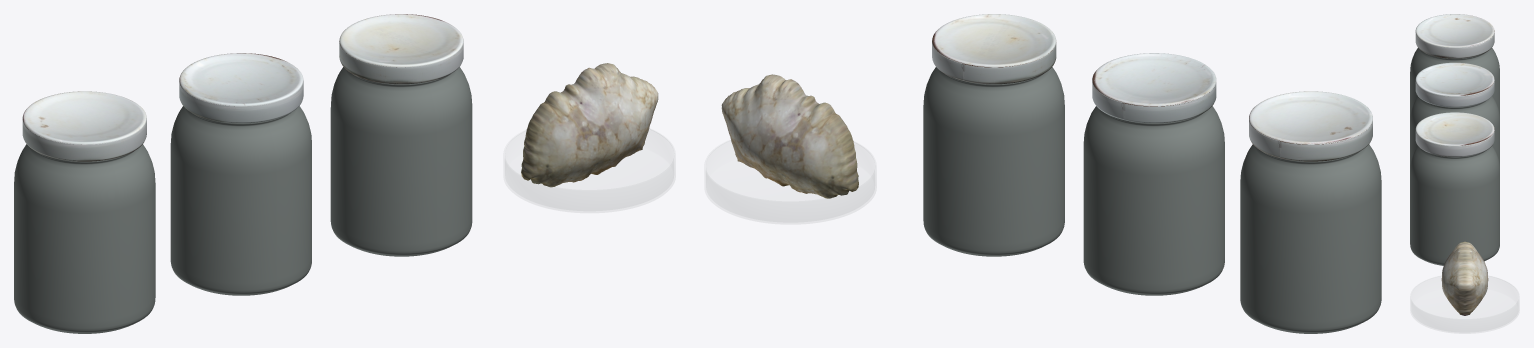
Rendered from claros_e_quartzo_22_web.glb.
The picture shows the model from 3 angles, left to right: view 1: azimuth 30°, elevation 25°; view 2: azimuth 150°, elevation 25°; view 3: azimuth 270°, elevation 25°; orthographic projection. The views are drawn at different scales.
Parts seen in each view (by area): view 1: Vidro_Pote_Solo_Claro_3, Vidro_Pote_Solo_Claro_1, Vidro_Pote_Solo_Claro_2, Cristal_de_Quartzo, Tampa_Pote_Solo_Claro_1, Tampa_Pote_Solo_Claro_2, Tampa_Pote_Solo_Claro_3, Placa_de_Petri_Cristal_de_Quartzo; view 2: Vidro_Pote_Solo_Claro_3, Vidro_Pote_Solo_Claro_2, Vidro_Pote_Solo_Claro_1, Cristal_de_Quartzo, Tampa_Pote_Solo_Claro_2, Tampa_Pote_Solo_Claro_3, Tampa_Pote_Solo_Claro_1, Placa_de_Petri_Cristal_de_Quartzo; view 3: Vidro_Pote_Solo_Claro_3, Tampa_Pote_Solo_Claro_2, Tampa_Pote_Solo_Claro_1, Tampa_Pote_Solo_Claro_3, Cristal_de_Quartzo, Vidro_Pote_Solo_Claro_2, Vidro_Pote_Solo_Claro_1, Placa_de_Petri_Cristal_de_Quartzo.
Part boxes in pixels (x1,y1,x2,y2): Vidro_Pote_Solo_Claro_3: (330,67,472,256); Vidro_Pote_Solo_Claro_1: (14,144,155,333); Vidro_Pote_Solo_Claro_2: (170,106,311,295); Cristal_de_Quartzo: (521,63,658,187); Tampa_Pote_Solo_Claro_1: (22,91,146,161); Tampa_Pote_Solo_Claro_2: (179,53,303,123); Tampa_Pote_Solo_Claro_3: (339,14,463,84); Placa_de_Petri_Cristal_de_Quartzo: (505,129,673,210); Vidro_Pote_Solo_Claro_3: (923,67,1064,256); Vidro_Pote_Solo_Claro_2: (1083,106,1224,295); Vidro_Pote_Solo_Claro_1: (1240,144,1381,333); Cristal_de_Quartzo: (721,74,858,198); Tampa_Pote_Solo_Claro_2: (1092,53,1216,123); Tampa_Pote_Solo_Claro_3: (932,14,1056,84); Tampa_Pote_Solo_Claro_1: (1249,91,1372,161); Placa_de_Petri_Cristal_de_Quartzo: (706,140,874,222); Vidro_Pote_Solo_Claro_3: (1410,146,1499,265); Tampa_Pote_Solo_Claro_2: (1415,62,1494,107); Tampa_Pote_Solo_Claro_1: (1415,14,1494,58); Tampa_Pote_Solo_Claro_3: (1415,112,1494,156); Cristal_de_Quartzo: (1441,241,1488,315); Vidro_Pote_Solo_Claro_2: (1410,96,1499,169); Vidro_Pote_Solo_Claro_1: (1410,48,1499,119); Placa_de_Petri_Cristal_de_Quartzo: (1411,281,1518,332).
Size of the model in its own units: 0.4339 by 0.1223 by 0.1.
9 materials, 7 textured.
